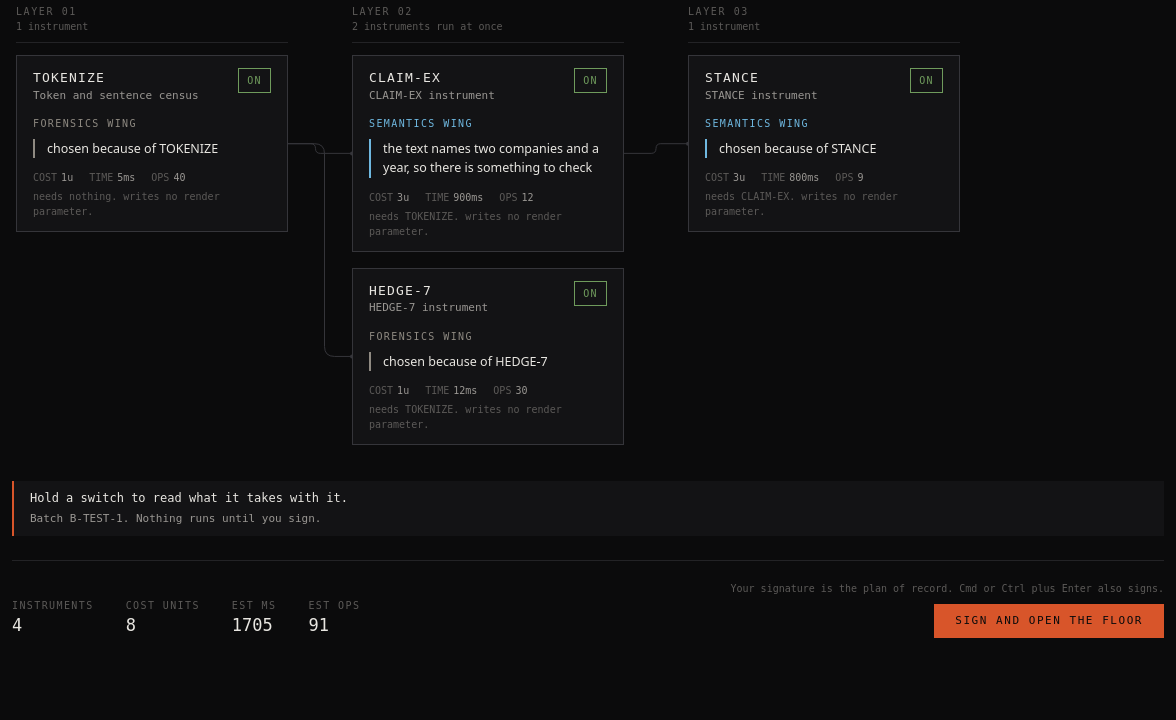
Test: WorkOrderDag › says so plainly when a switch takes nothing with it
Hover over the switch named "STANCE" at (927, 80), box top-left (910, 68), bottom-right (943, 93)
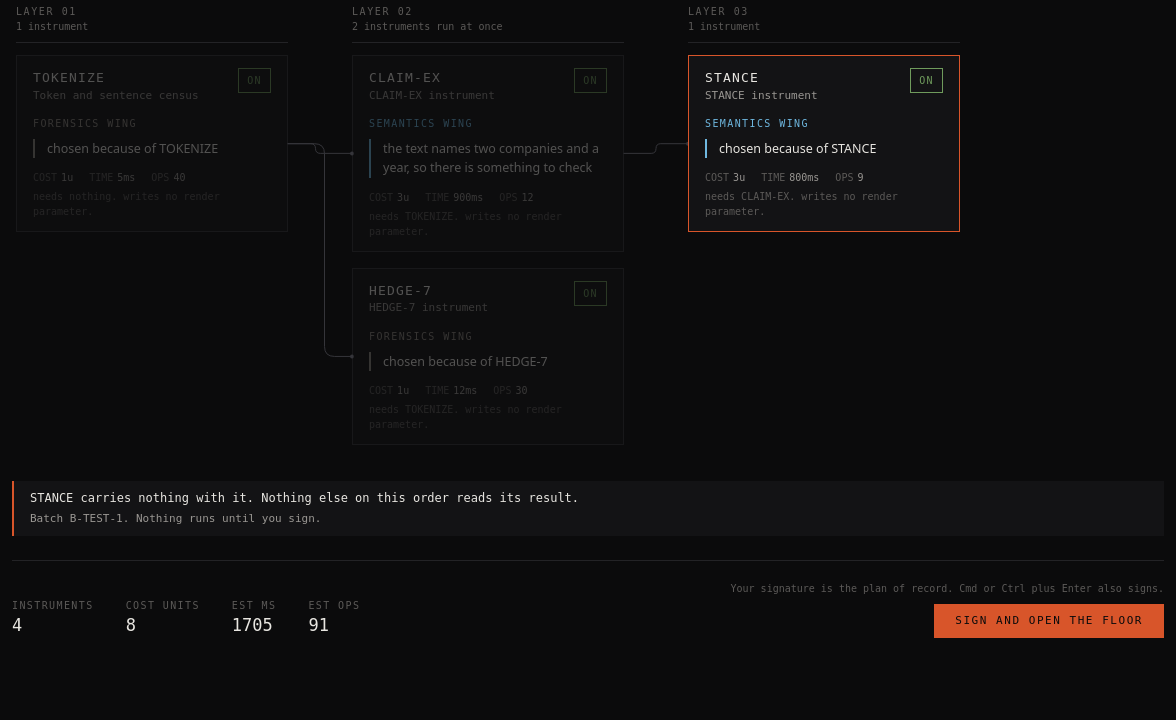
Expected: the text with test id "consequence" shows "Nothing else", top-left (30, 491), bottom-right (579, 505)
